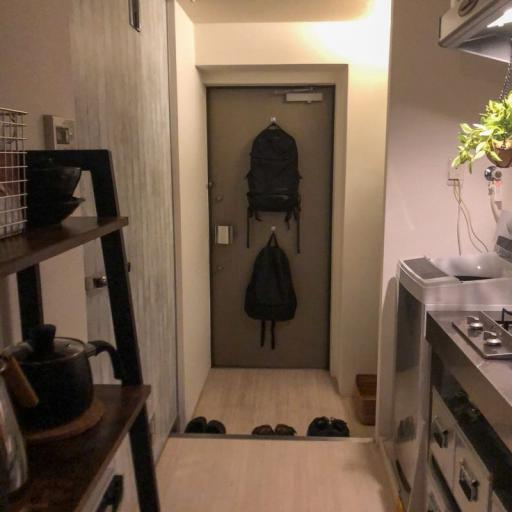corridor: (208, 87, 334, 368)
curb: (0, 4, 511, 512)
door: (247, 124, 300, 253), (245, 234, 297, 349)
road: (10, 385, 150, 511), (0, 218, 127, 277)
